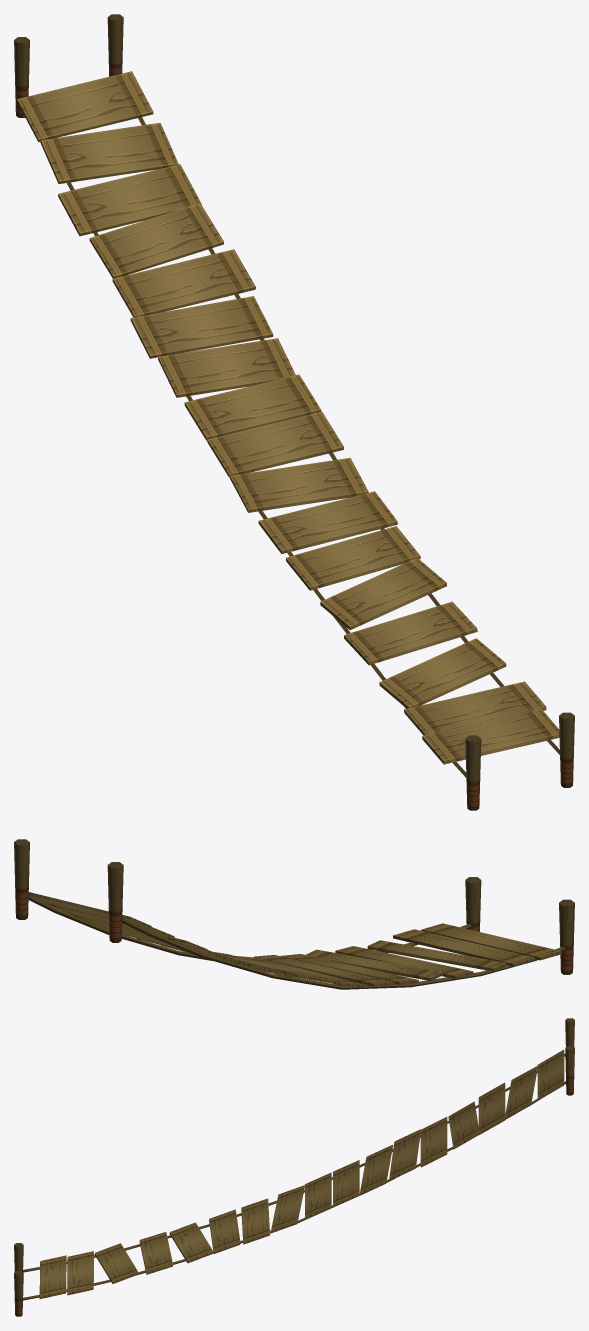
File: Wooden_Bridge_01.FBX
3 views of the same model, one above another, from view 1: azimuth 30°, elevation 25°; view 2: azimuth 150°, elevation 25°; view 3: azimuth 270°, elevation 25° (orthographic). The views are drawn at different scales.
Visible parts, largest first — view 1: Wooden_Bridge_01; view 2: Wooden_Bridge_01; view 3: Wooden_Bridge_01.
Boxes of the visible parts, x1,y1,x2,y2 form: Wooden_Bridge_01: (14,14,574,810); Wooden_Bridge_01: (14,839,574,989); Wooden_Bridge_01: (14,1018,574,1316).
Bounding box in the file's own units: 47.2 × 152 × 289.
